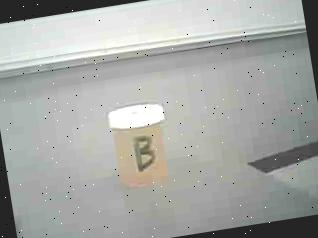Bottle B: (94, 94, 186, 200)
